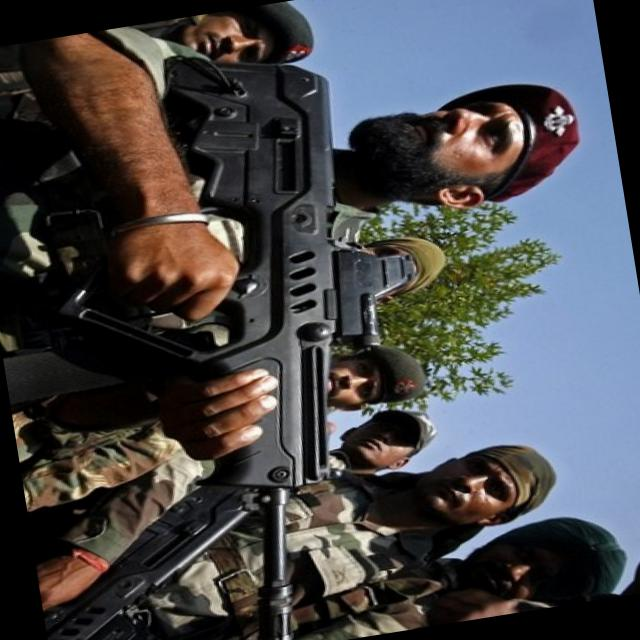long weapon: (82, 24, 428, 610)
